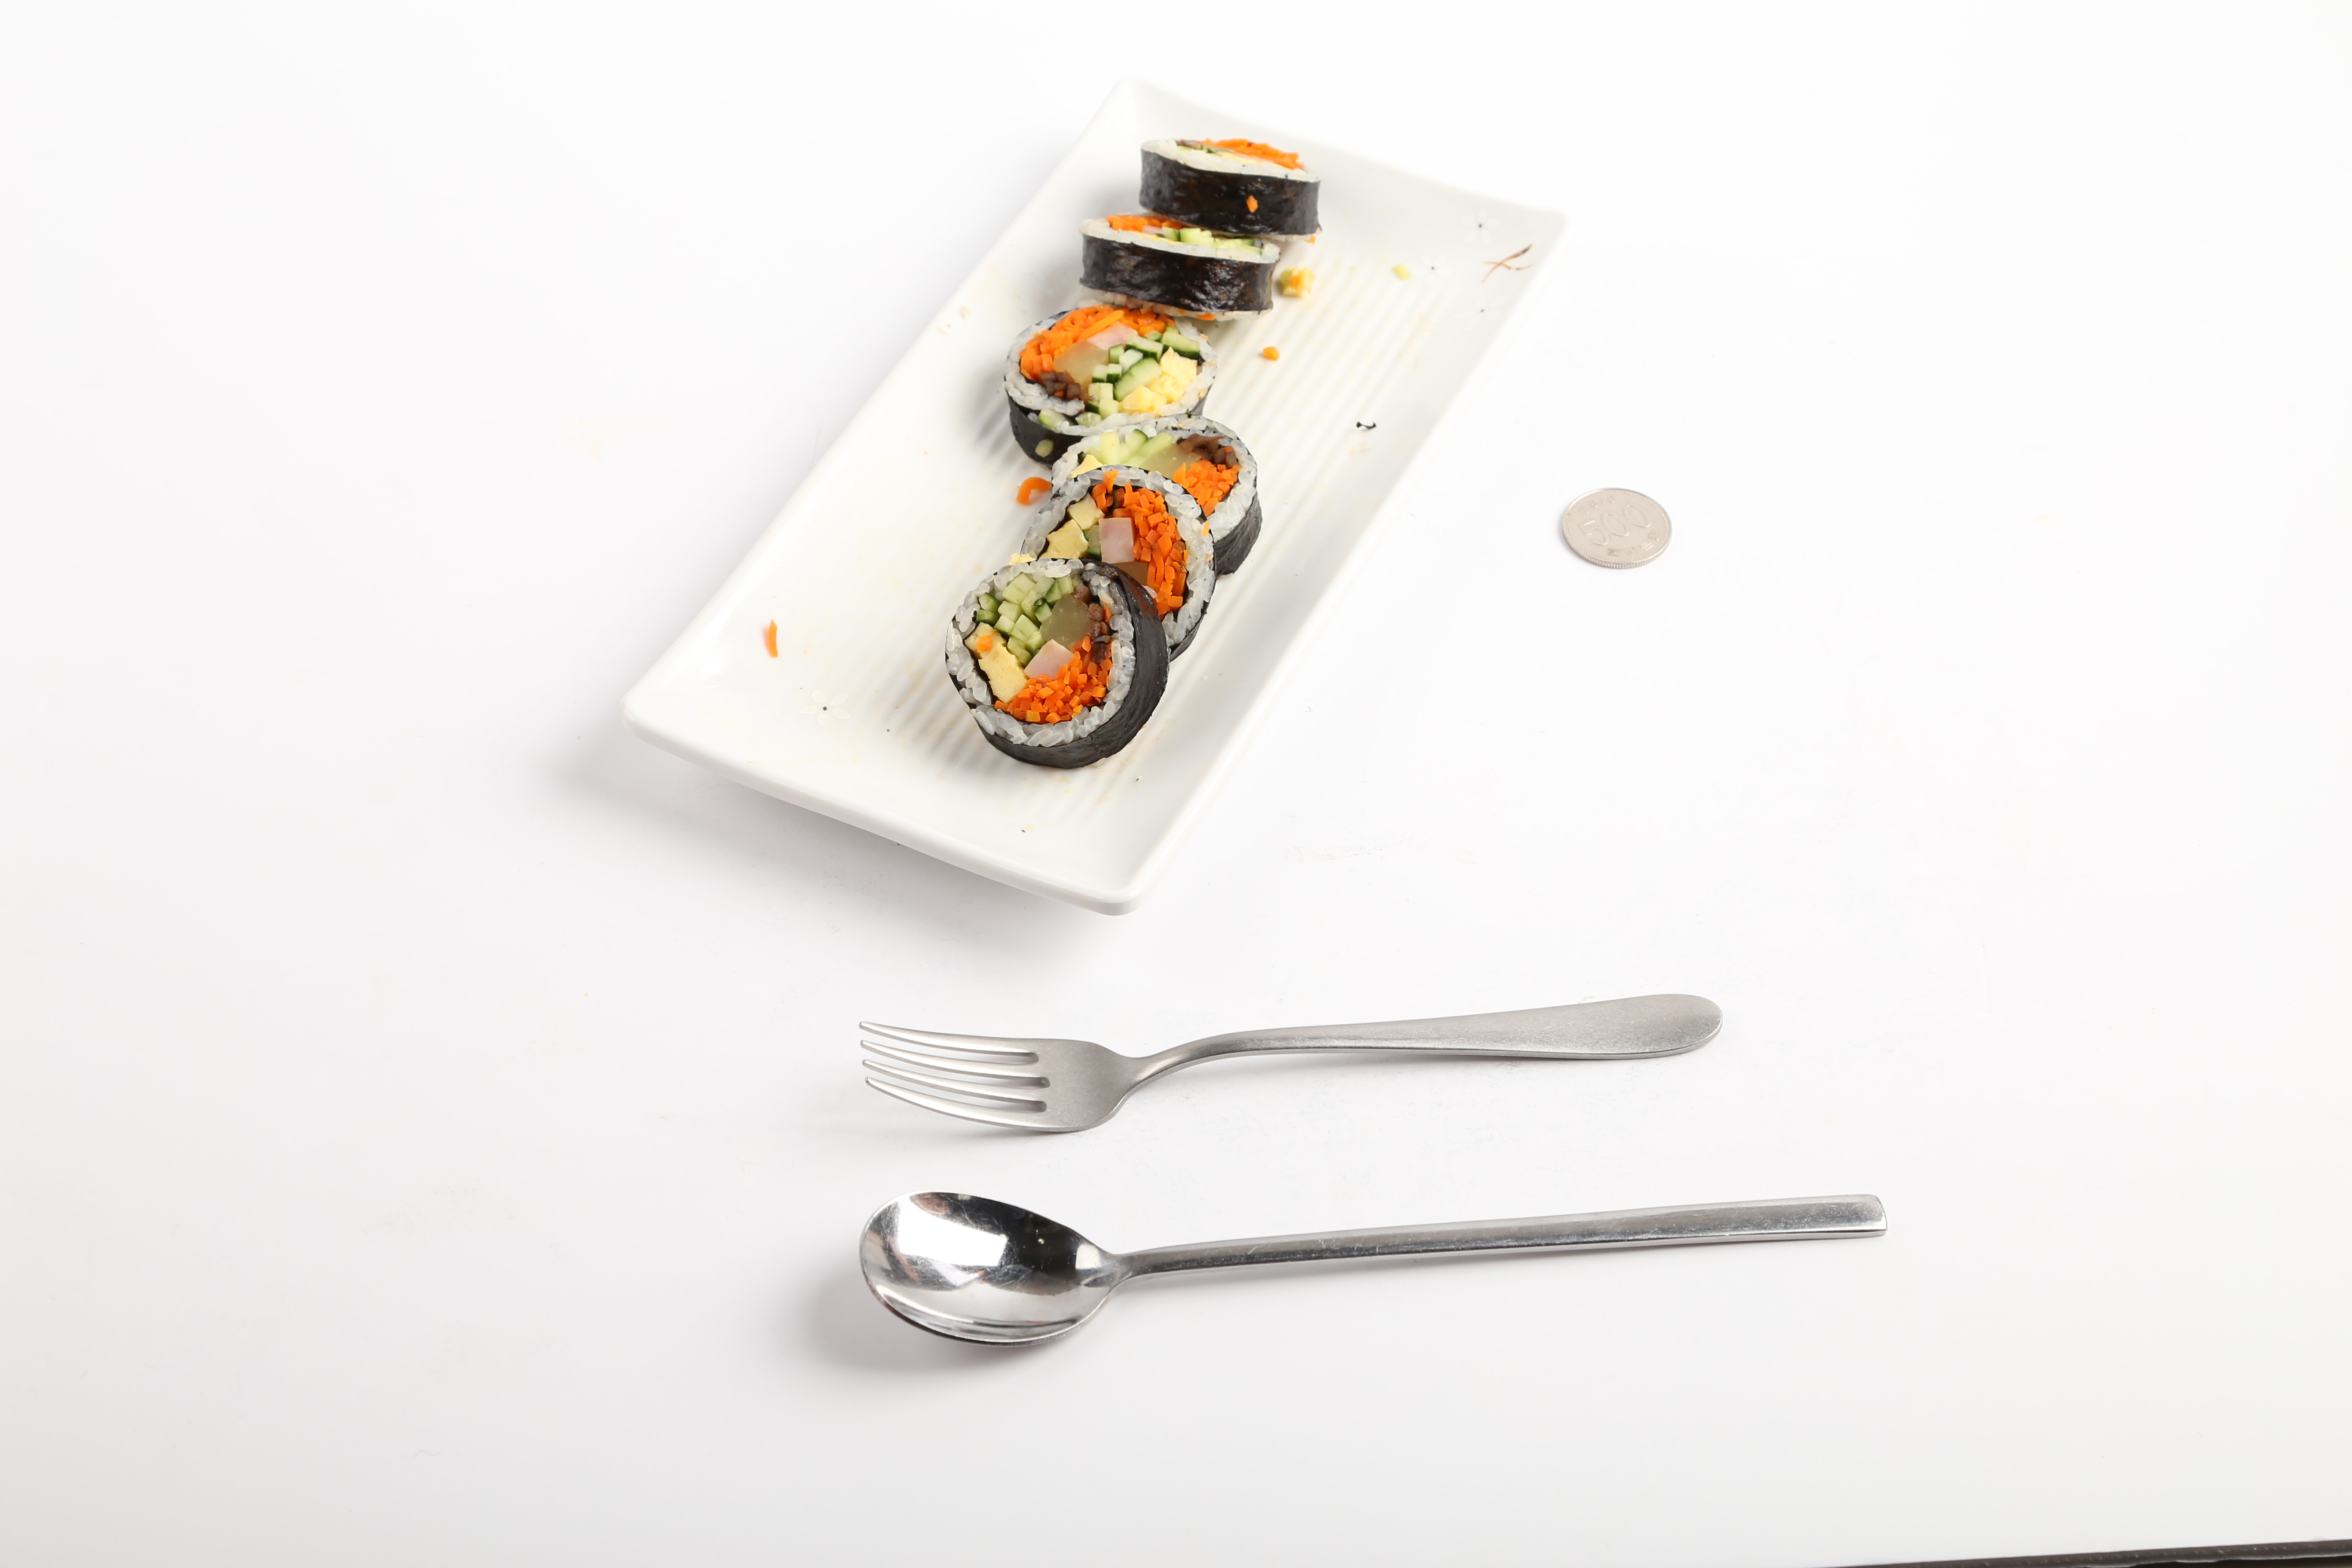dish: (612, 72, 1568, 912)
ref_coin: (1552, 486, 1676, 577)
ref_fork: (852, 1015, 1188, 1143)
ref_spoon: (856, 1176, 1202, 1358)
김밥: (938, 124, 1326, 773)
